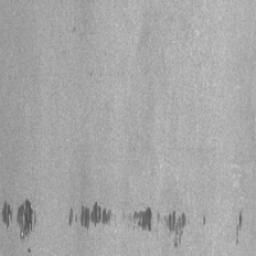Rolled pit: (0, 199, 36, 241), (69, 202, 111, 229), (165, 211, 186, 236), (133, 207, 152, 231), (238, 214, 242, 228)
